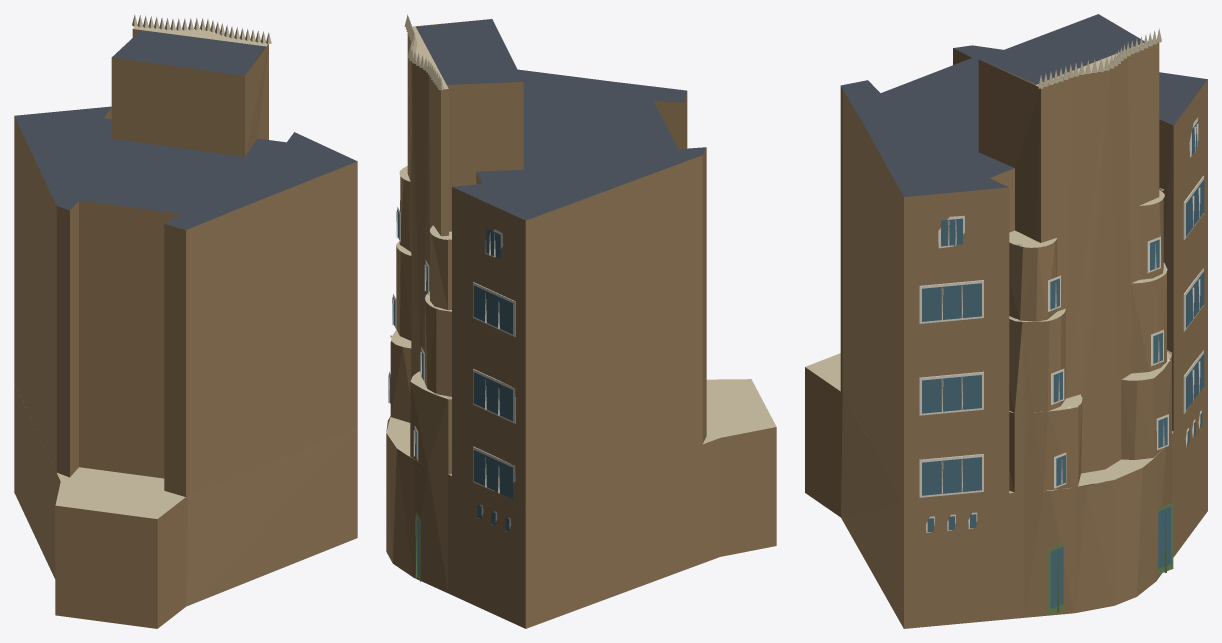
The model's file is dageraad.lod1.glb.
3 views of the same model, side by side, from view 1: azimuth 30°, elevation 25°; view 2: azimuth 150°, elevation 25°; view 3: azimuth 270°, elevation 25° (orthographic). The views are drawn at different scales.
Visible parts, largest first — view 1: dageraad; view 2: dageraad; view 3: dageraad.
Part boxes in pixels (box(x1,y1,x2,y2)): dageraad: box(14, 14, 357, 628); dageraad: box(386, 14, 776, 628); dageraad: box(805, 14, 1207, 628).
Bounding box in the file's own units: 14.93 × 21.9 × 14.85.
